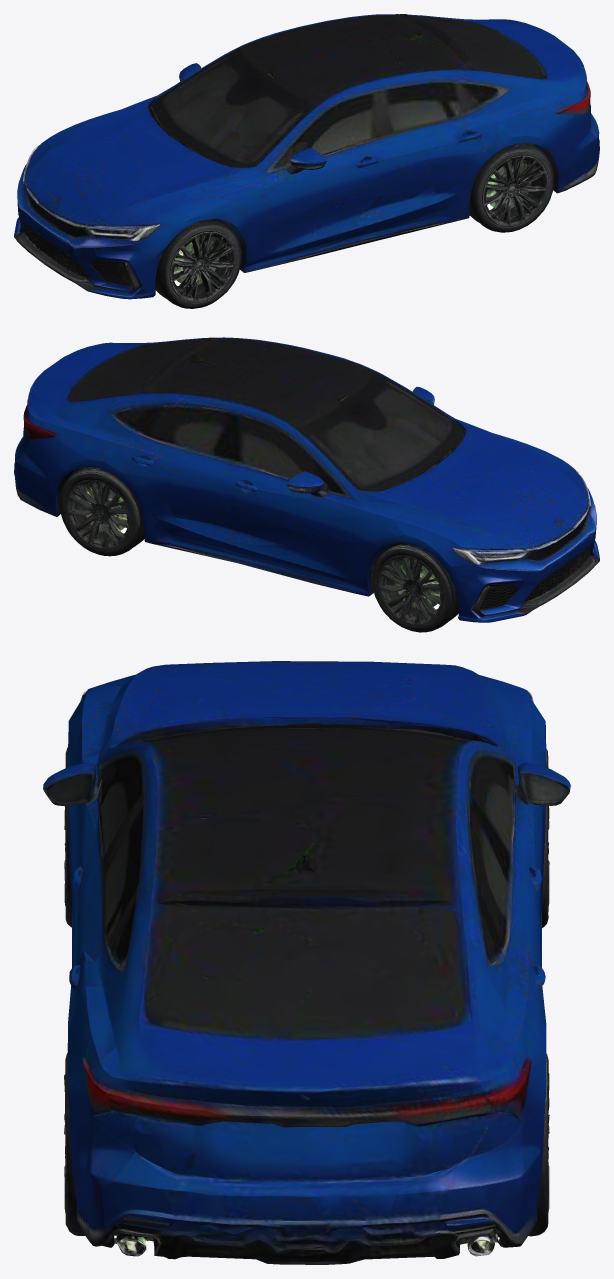
File: car_body.glb
3 renders of one model, top to bottom at view 1: azimuth 30°, elevation 25°; view 2: azimuth 150°, elevation 25°; view 3: azimuth 270°, elevation 25°, orthographic. The views are drawn at different scales.
Size of the model in its own units: 1.9 by 0.5765 by 0.824.
1 material, 1 textured.
